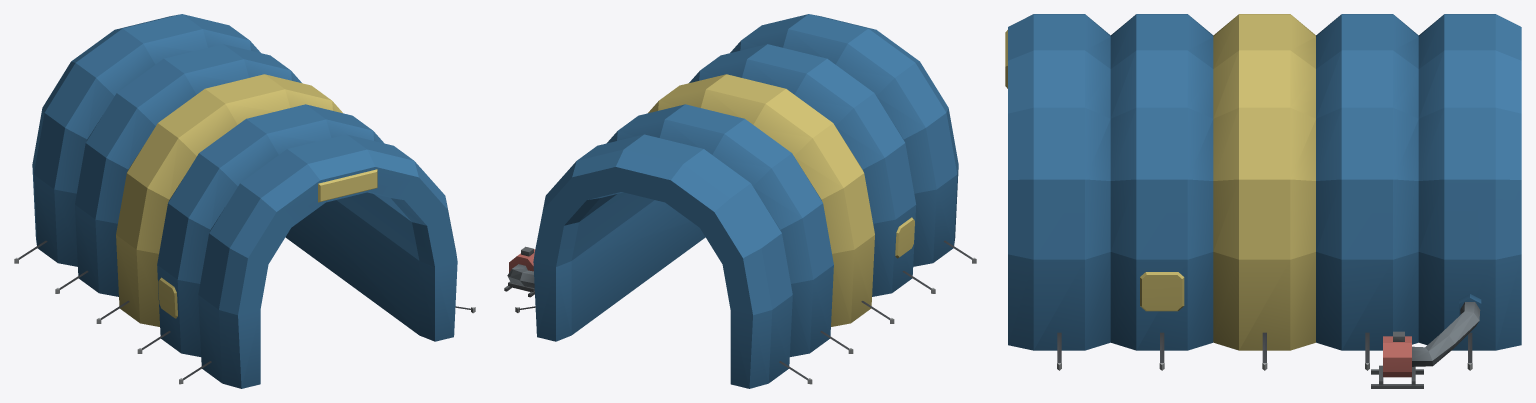
File: inflatable.glb
The picture shows the model from 3 angles, left to right: view 1: azimuth 30°, elevation 25°; view 2: azimuth 150°, elevation 25°; view 3: azimuth 270°, elevation 25°; orthographic projection. The views are drawn at different scales.
Parts seen in each view (by area): view 1: inflatable; view 2: inflatable; view 3: inflatable.
Boxes of the visible parts, x1=… form: inflatable: x1=14, y1=14, x2=475, y2=388; inflatable: x1=504, y1=14, x2=976, y2=388; inflatable: x1=1005, y1=14, x2=1521, y2=388.
Size of the model in its own units: 6.05 by 3.52 by 6.63.
